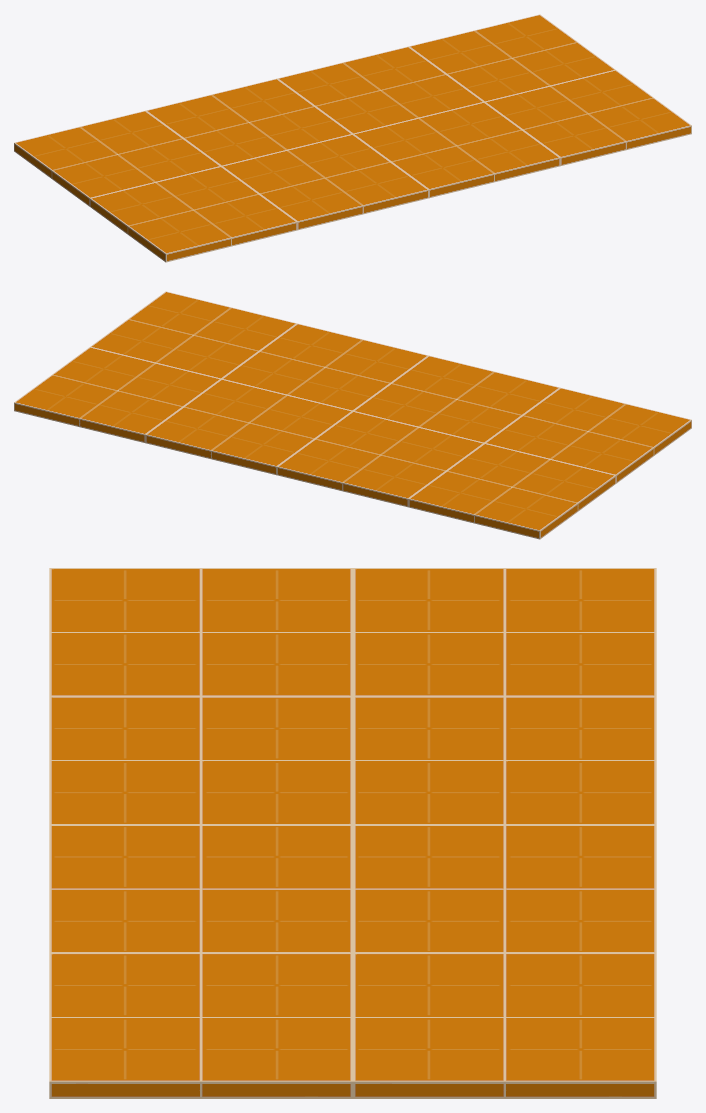
File: Plate16_4x2.obj
The picture shows the model from 3 angles, top to bottom: view 1: azimuth 30°, elevation 25°; view 2: azimuth 150°, elevation 25°; view 3: azimuth 270°, elevation 25°; orthographic projection. The views are drawn at different scales.
Visible parts, largest first — view 1: Plate16_4x2_Cube.435; view 2: Plate16_4x2_Cube.435; view 3: Plate16_4x2_Cube.435.
Part boxes in pixels (bbox=[...]): Plate16_4x2_Cube.435: bbox=[14, 14, 691, 262]; Plate16_4x2_Cube.435: bbox=[14, 291, 691, 539]; Plate16_4x2_Cube.435: bbox=[49, 568, 656, 1098].
Size of the model in its own units: 4 by 0.0625 by 2.
1 material, 1 textured.
